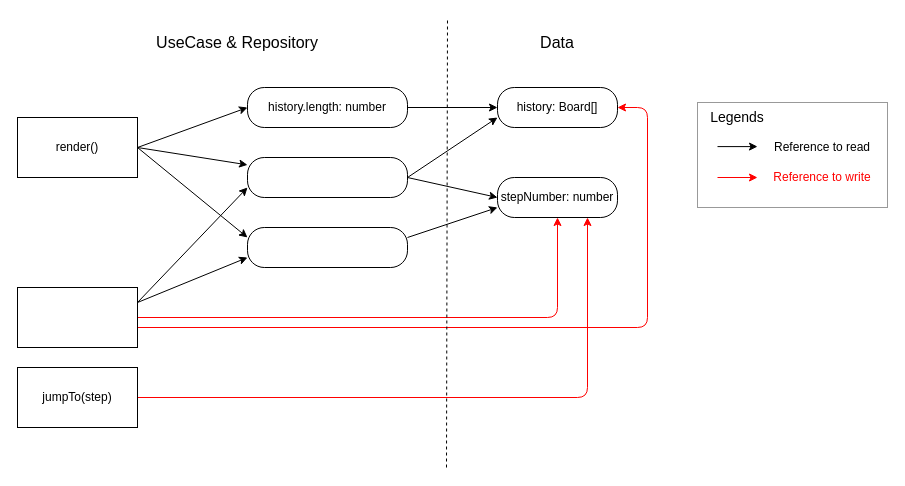
Some shapes in this 905 by 486 pixel diagram are drawn without their labels. Here are the shapes that lost their labels. From the top down, the centre of each, then its label:
At point (327, 177): "current.squares: Board".
At point (327, 247): "xIsNext: boolean".
At point (77, 317): "handleClick()".
